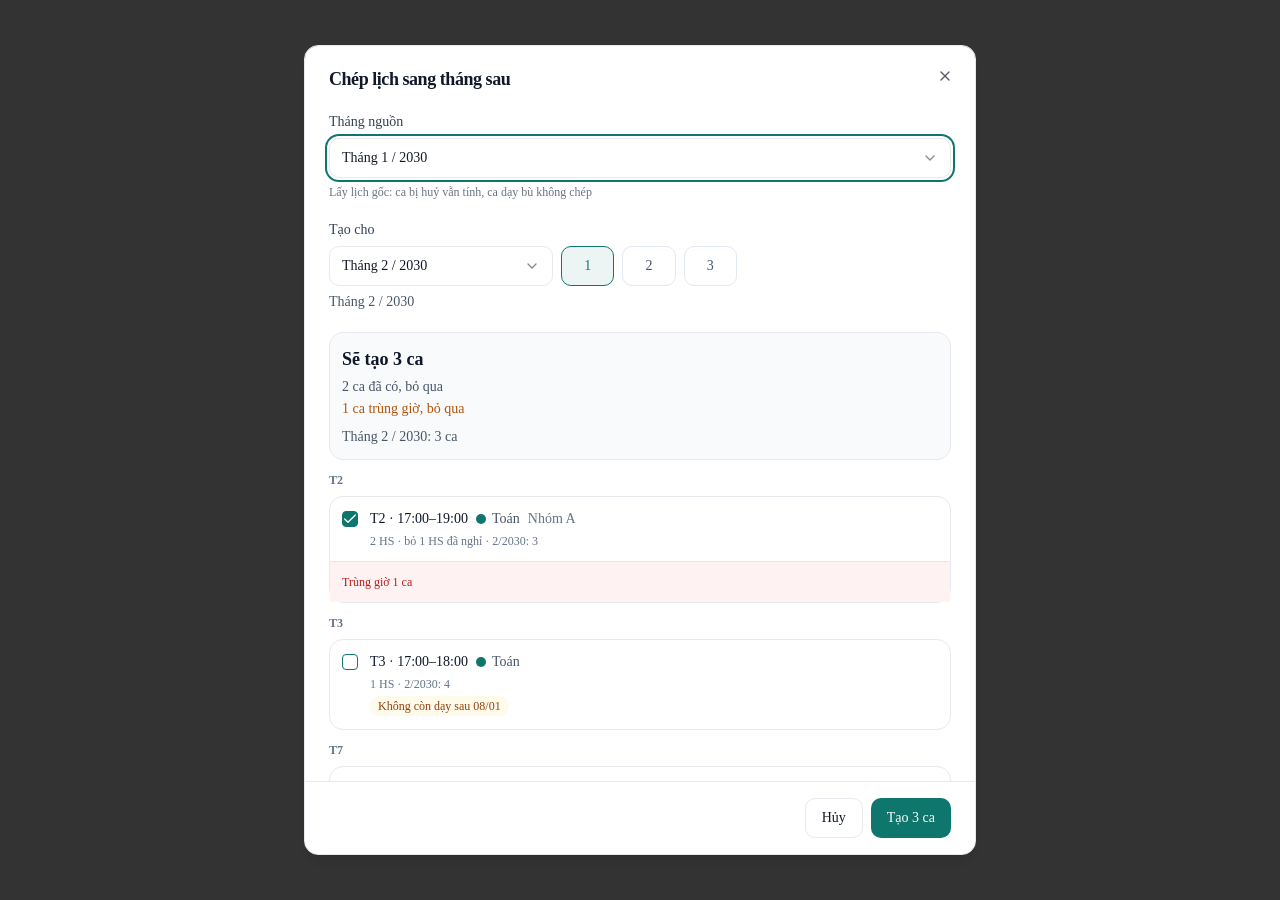
it: CopyMonthDialog › chọn 3 tháng → gửi months 3, tóm tắt khoảng tháng
Click the radio button with test id "copy-months-3" at coordinates (710, 266), box [684, 246, 737, 286]
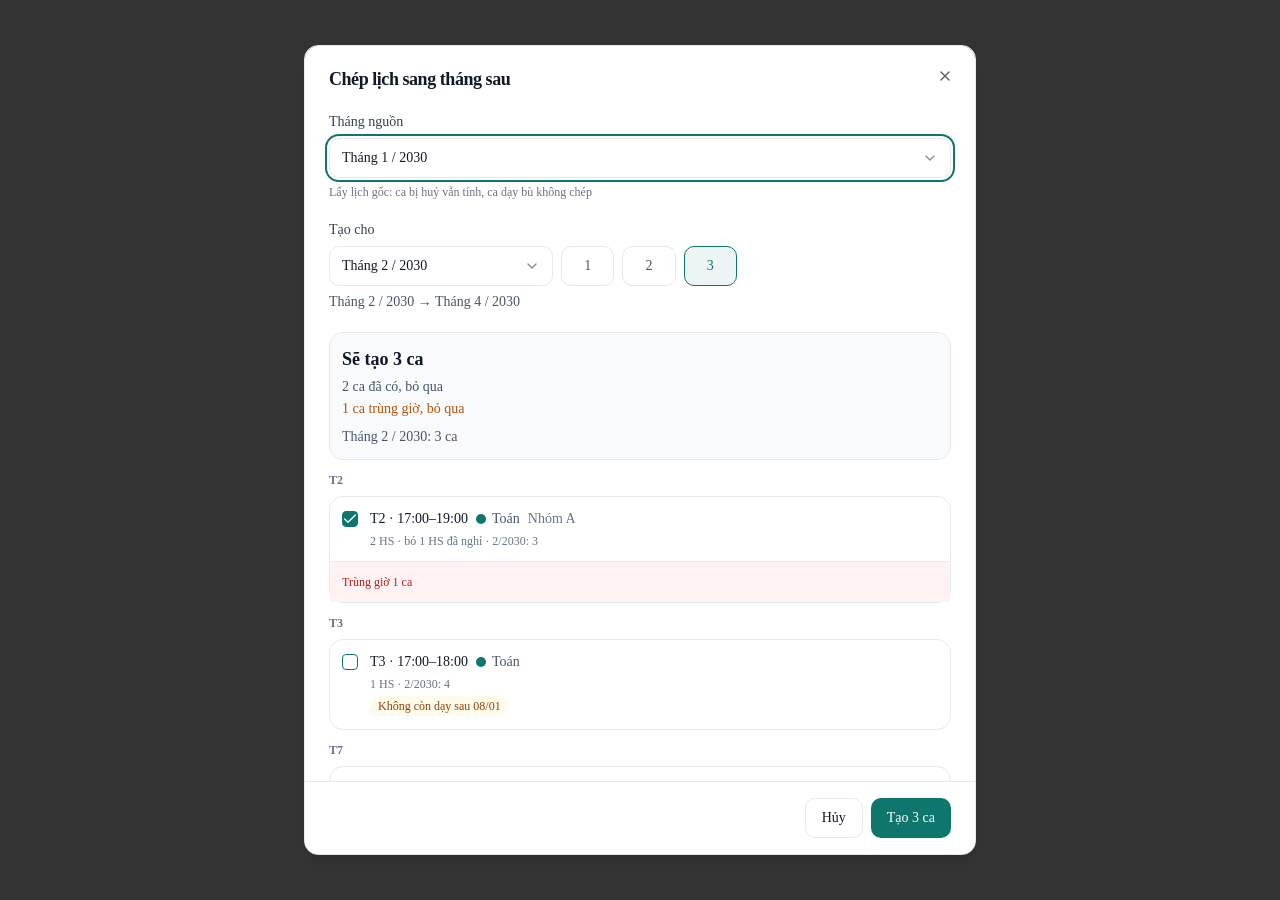
Now the text "Tháng 2 / 2030 → Tháng 4 / 2030" is shown, box [329, 294, 520, 309]
